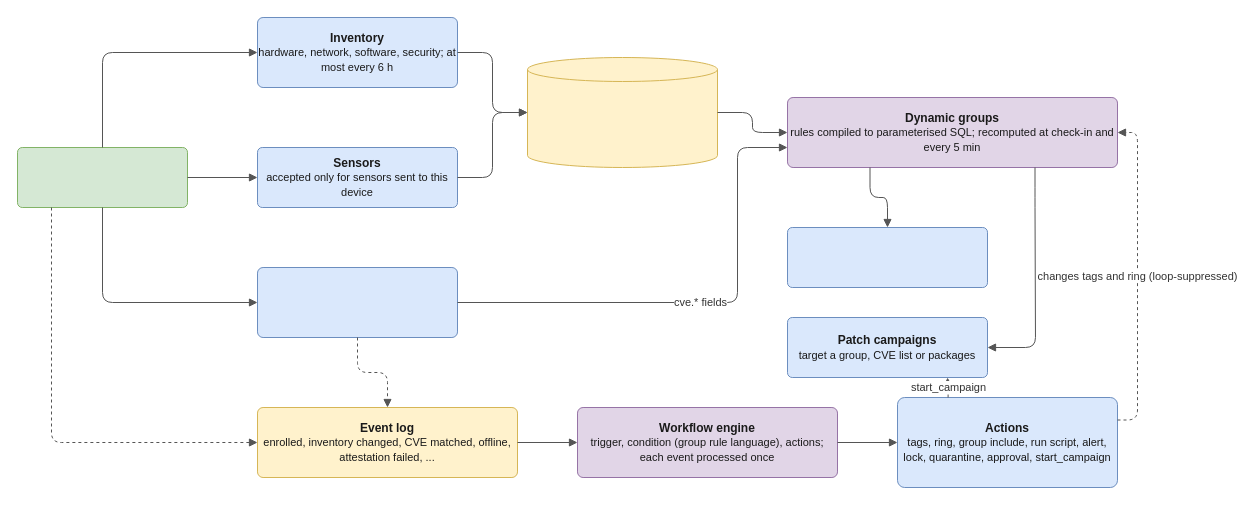
This 1255x505 diagram has some shape labels left out. Here are the shapes that lost their labels. From the top down, the box of each, then its label:
(526, 56, 718, 168): Device attributes typed values; each writer owns its keys
(16, 146, 188, 208): spired check-in reports from the device
(786, 226, 988, 288): Policies and applications target tags, rings and groups
(256, 266, 458, 338): CVE matching Debian security feed vs installed source packages
